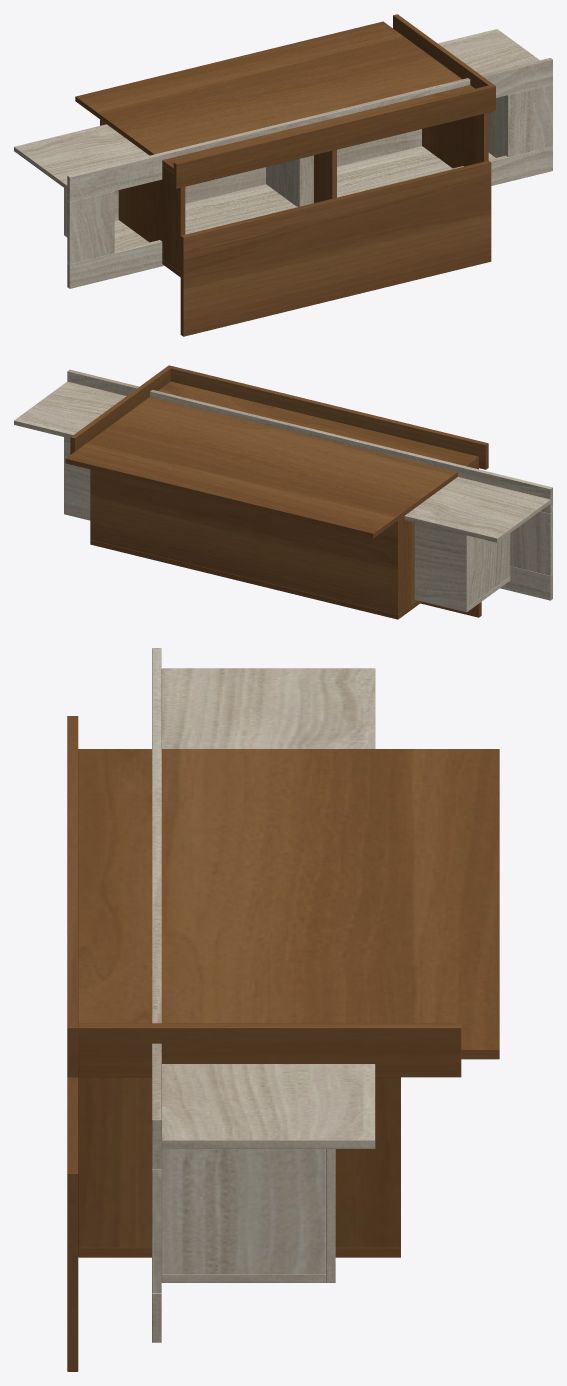
The model's file is komoda.gltf.
3 renders of one model, top to bottom at view 1: azimuth 30°, elevation 25°; view 2: azimuth 150°, elevation 25°; view 3: azimuth 270°, elevation 25°, orthographic. The views are drawn at different scales.
Parts seen in each view (by area): view 1: 00_napred, 01_nazad; view 2: 00_napred, 01_nazad; view 3: 00_napred, 01_nazad.
Boxes of the visible parts, <box> form: 00_napred: <box>75,14,495,336</box>; 01_nazad: <box>14,29,552,288</box>; 00_napred: <box>65,365,488,619</box>; 01_nazad: <box>14,369,552,612</box>; 00_napred: <box>67,716,499,1371</box>; 01_nazad: <box>152,648,375,1342</box>.
Size of the model in its own units: 2.04 by 0.7032 by 0.79.
5 materials, 4 textured.
